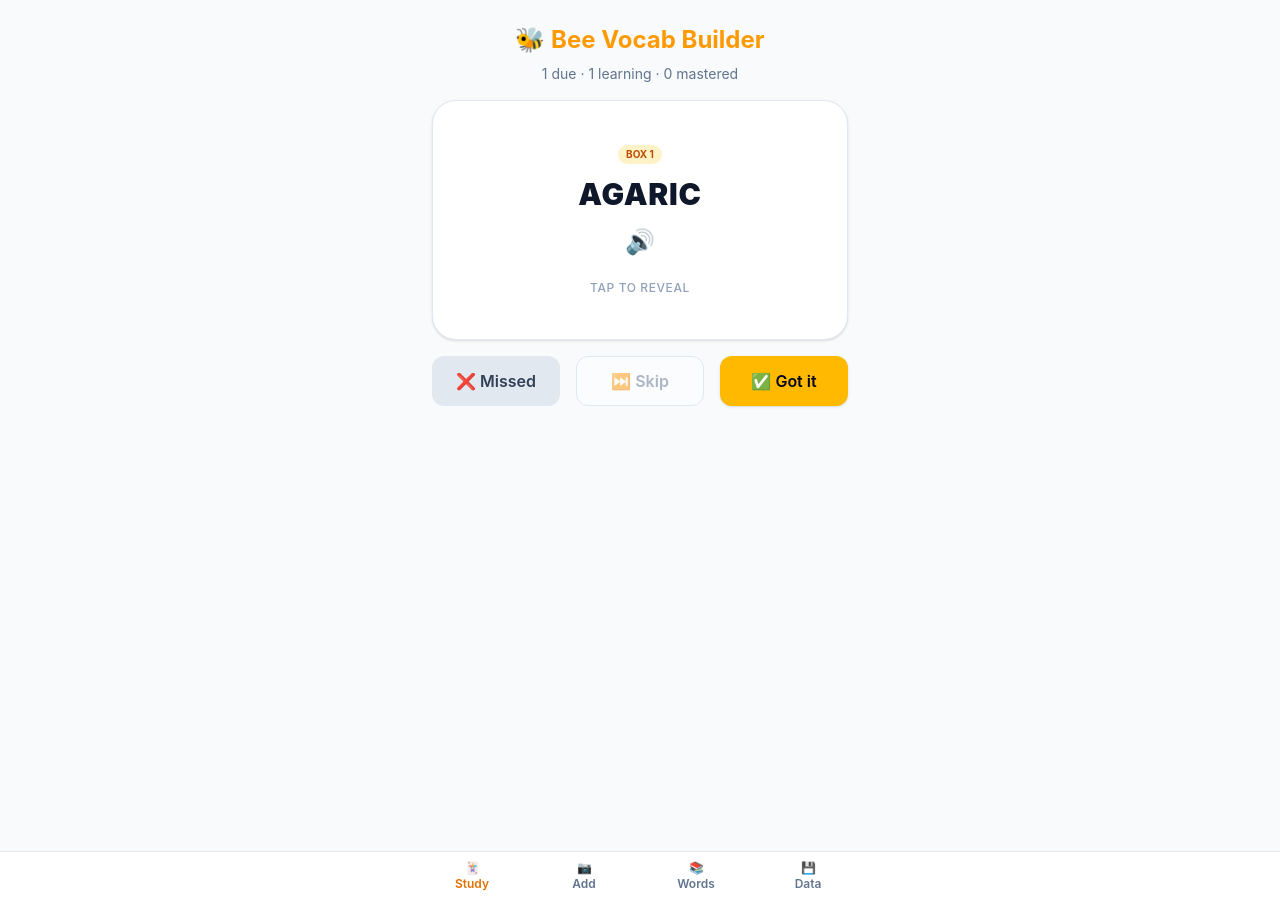
it: renders a multi-sense definition as separate paragraphs
Click the heading "AGARIC": [640, 194] box 578,176 -> 702,212
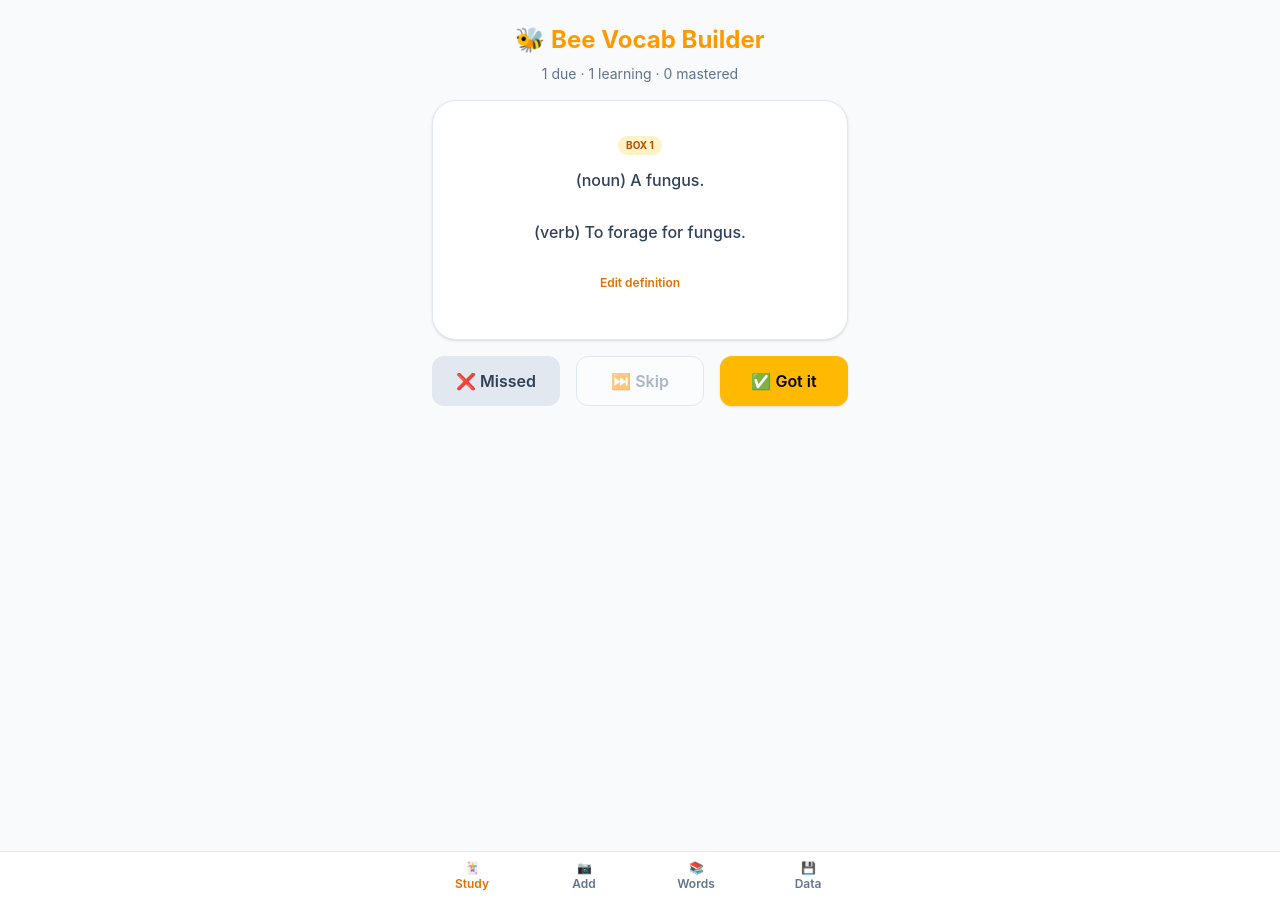
Expected: the text "(noun) A fungus. (verb) To forage for fungus." is shown, 534,166 -> 746,244
